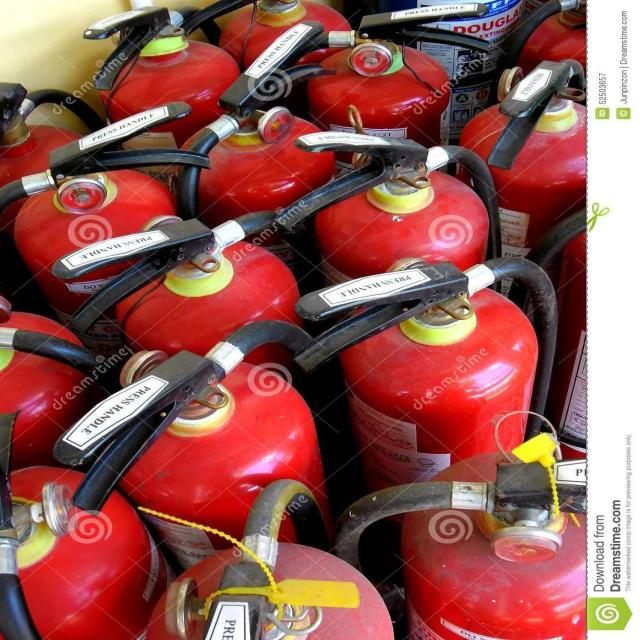fire_extinguisher: (272, 124, 516, 606), (1, 90, 247, 535), (288, 249, 566, 640), (48, 314, 363, 640), (167, 20, 359, 491), (311, 4, 499, 456), (76, 4, 262, 412), (443, 53, 599, 471), (1, 66, 164, 444), (324, 428, 594, 639), (147, 475, 415, 638), (0, 459, 155, 639)
